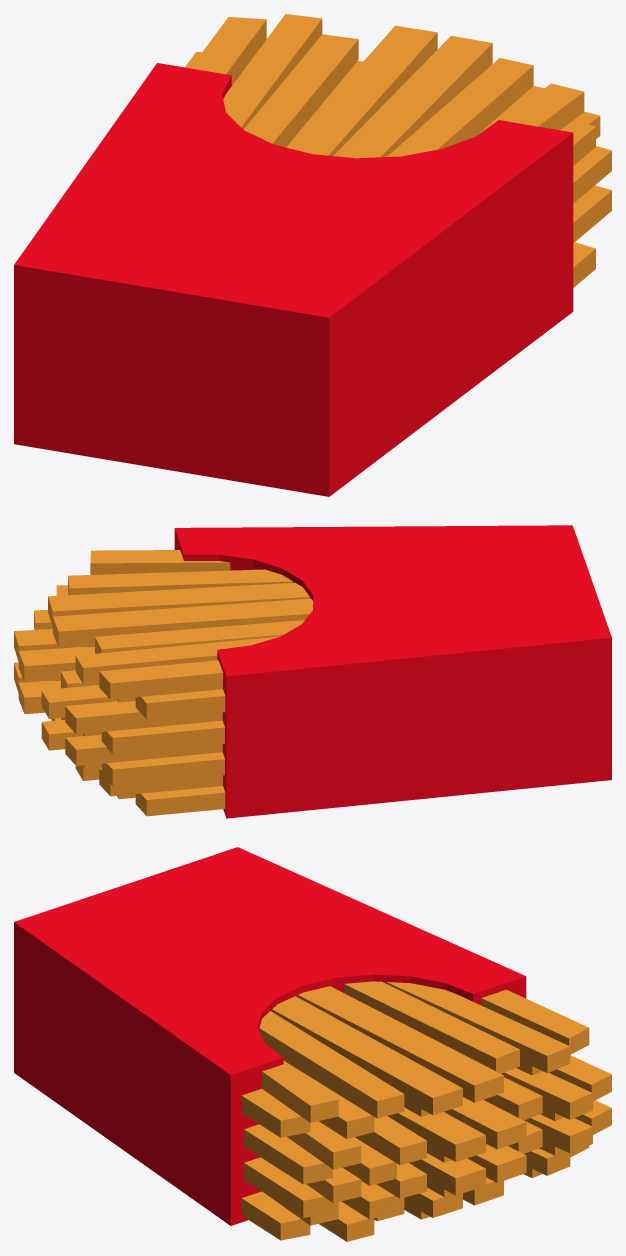
Rendered from ToyObject_148.fbx.
3 renders of one model, top to bottom at view 1: azimuth 30°, elevation 25°; view 2: azimuth 150°, elevation 25°; view 3: azimuth 270°, elevation 25°, orthographic. The views are drawn at different scales.
Visible parts, largest first — view 1: Object.038; view 2: Object.038; view 3: Object.038.
Boxes of the visible parts, bbox=[...] form: Object.038: bbox=[14, 14, 611, 496]; Object.038: bbox=[14, 525, 611, 818]; Object.038: bbox=[14, 847, 611, 1241].
Bounding box in the file's own units: 0.1889 × 0.0503 × 0.1807.
